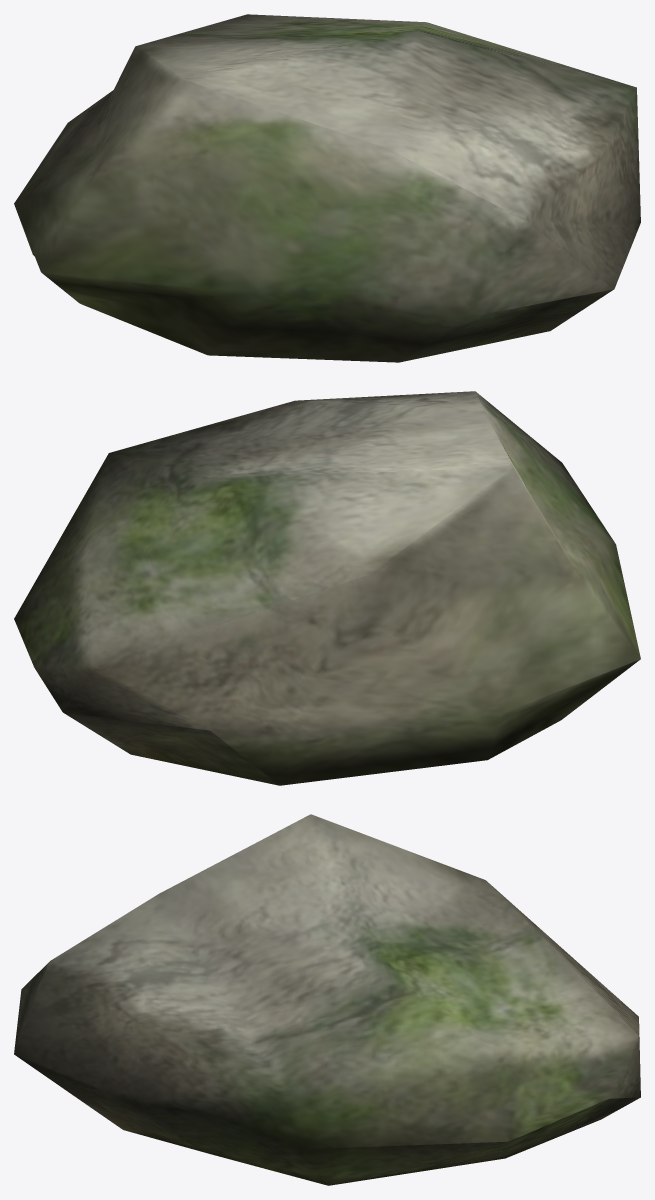
Rendered from rock_1_sphere.fbx.
3 renders of one model, top to bottom at view 1: azimuth 30°, elevation 25°; view 2: azimuth 150°, elevation 25°; view 3: azimuth 270°, elevation 25°, orthographic. The views are drawn at different scales.
Parts seen in each view (by area): view 1: rock_1; view 2: rock_1; view 3: rock_1.
Boxes of the visible parts, box(x1,y1,x2,y2) form: rock_1: box(14, 14, 640, 362); rock_1: box(14, 391, 640, 785); rock_1: box(14, 814, 640, 1185).
Bounding box in the file's own units: 543 × 244 × 586.
1 material, 1 textured.
